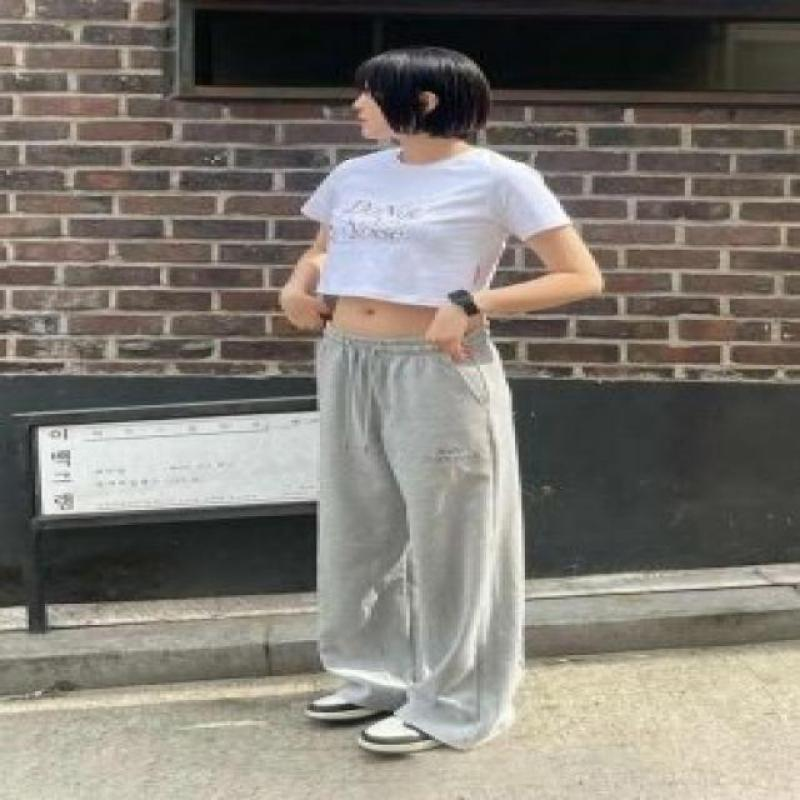short sleeve shirt: (299, 150, 575, 312)
